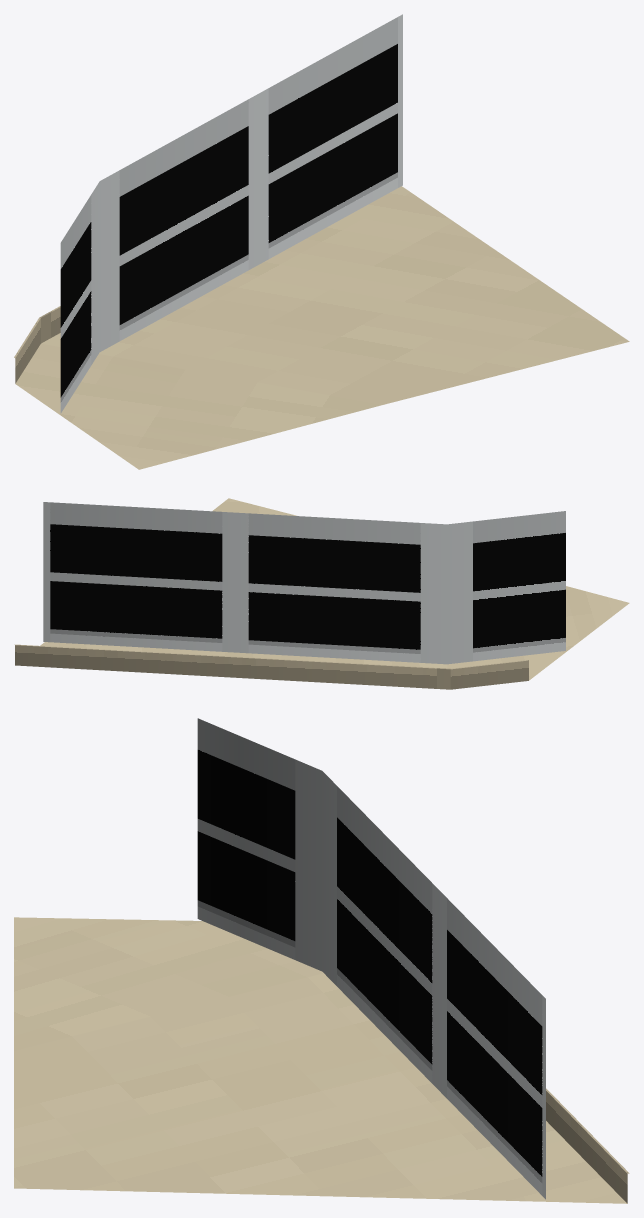
Rendered from tank_large_roof_1_0.obj.
3 renders of one model, top to bottom at view 1: azimuth 30°, elevation 25°; view 2: azimuth 150°, elevation 25°; view 3: azimuth 270°, elevation 25°, orthographic. The views are drawn at different scales.
Parts seen in each view (by area): view 1: tank_large_roof_1_0; view 2: tank_large_roof_1_0; view 3: tank_large_roof_1_0.
Part boxes in pixels (box(x1,y1,x2,y2)): tank_large_roof_1_0: box(14, 14, 629, 469); tank_large_roof_1_0: box(14, 498, 629, 689); tank_large_roof_1_0: box(14, 718, 629, 1203).
Bounding box in the file's own units: 3 × 1.02 × 2.78.
